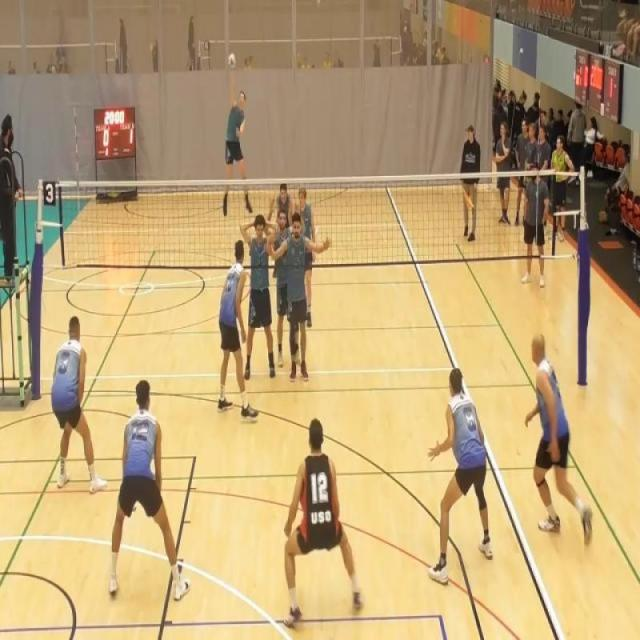volleyball: (227, 52, 236, 68)
